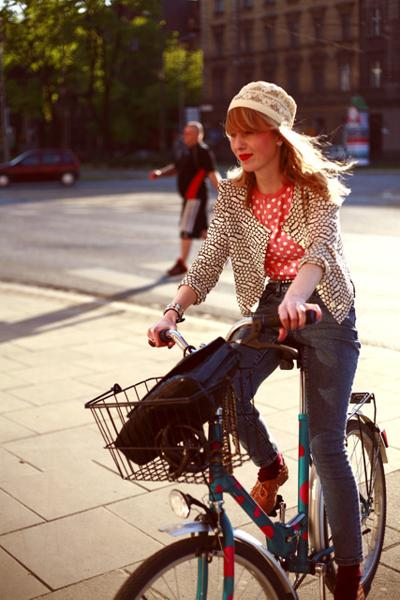person: (147, 82, 365, 600)
